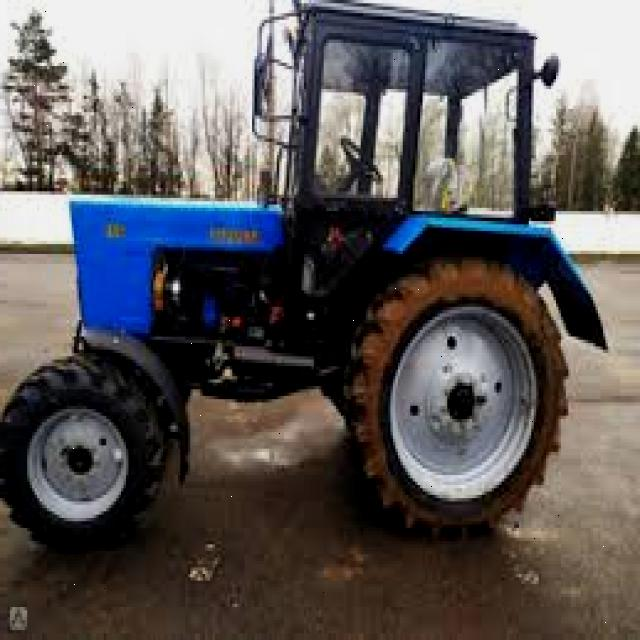Tratores - v5 YOLO V8L 2024-11-13: (0, 0, 591, 594)
